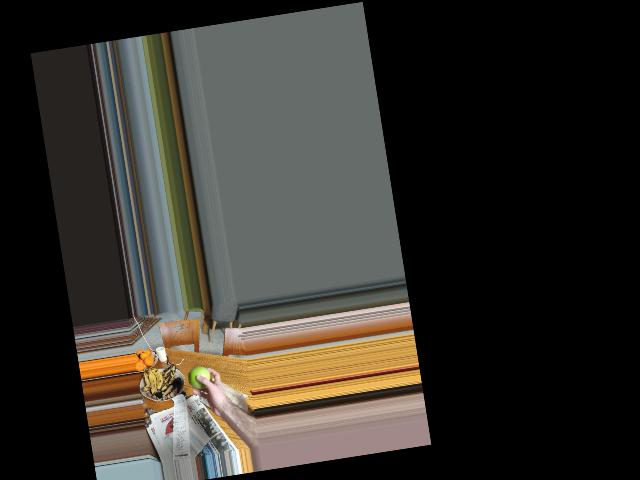apple: (187, 364, 212, 392)
